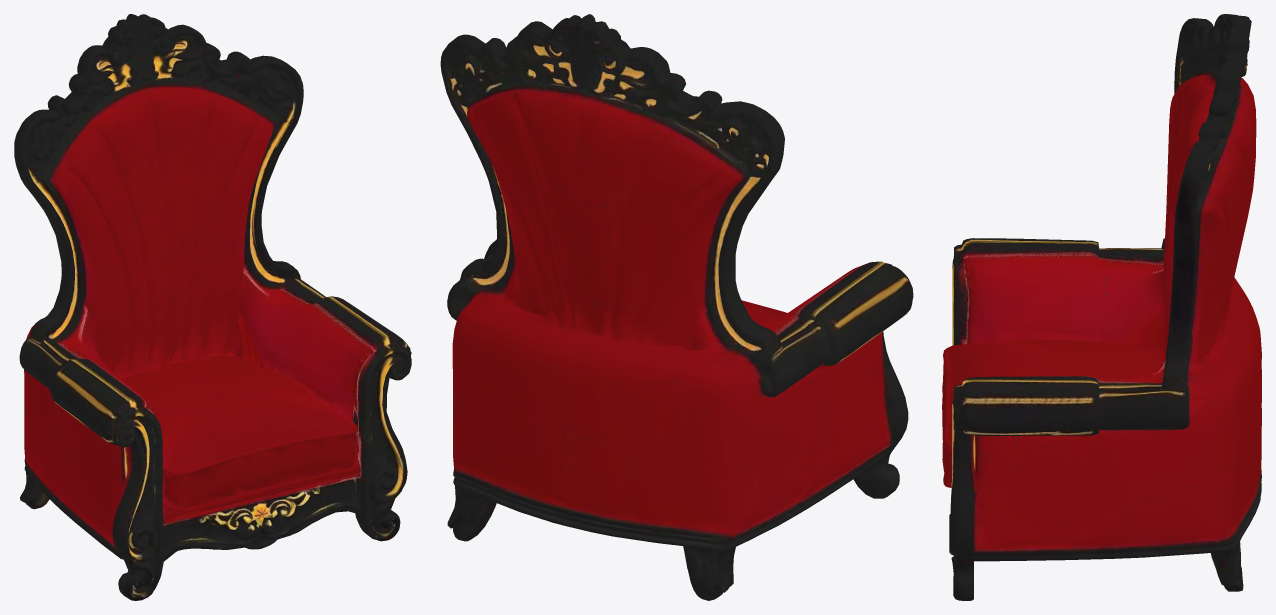
Rendered from chair.glb.
3 renders of one model, left to right at view 1: azimuth 30°, elevation 25°; view 2: azimuth 150°, elevation 25°; view 3: azimuth 270°, elevation 25°, orthographic. The views are drawn at different scales.
Visible parts, largest first — view 1: mesh_node; view 2: mesh_node; view 3: mesh_node.
Part boxes in pixels (x1,y1,x2,y2): mesh_node: [14, 14, 411, 600]; mesh_node: [440, 14, 913, 600]; mesh_node: [942, 14, 1261, 600].
Bounding box in the file's own units: 1.31 × 1.9 × 1.07.
1 material, 1 textured.
